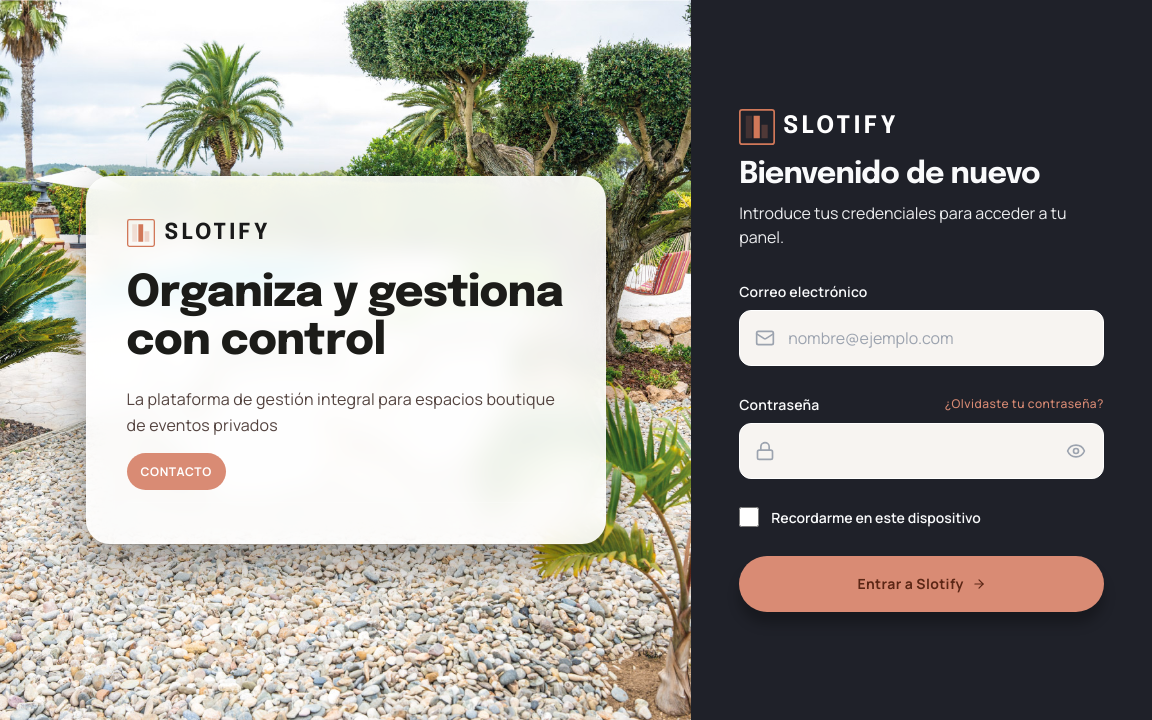
it: LoginPage — errores de la API (REQ 3 / REQ 8) › debe_mostrar_un_mensaje_generico_y_permanecer_en_login_ante_credenciales_invalidas
The image size is (1152, 720).
In the field labelled "Correo electrónico": point(922, 338) [739,310,1104,366], type "info@masialencis.com"
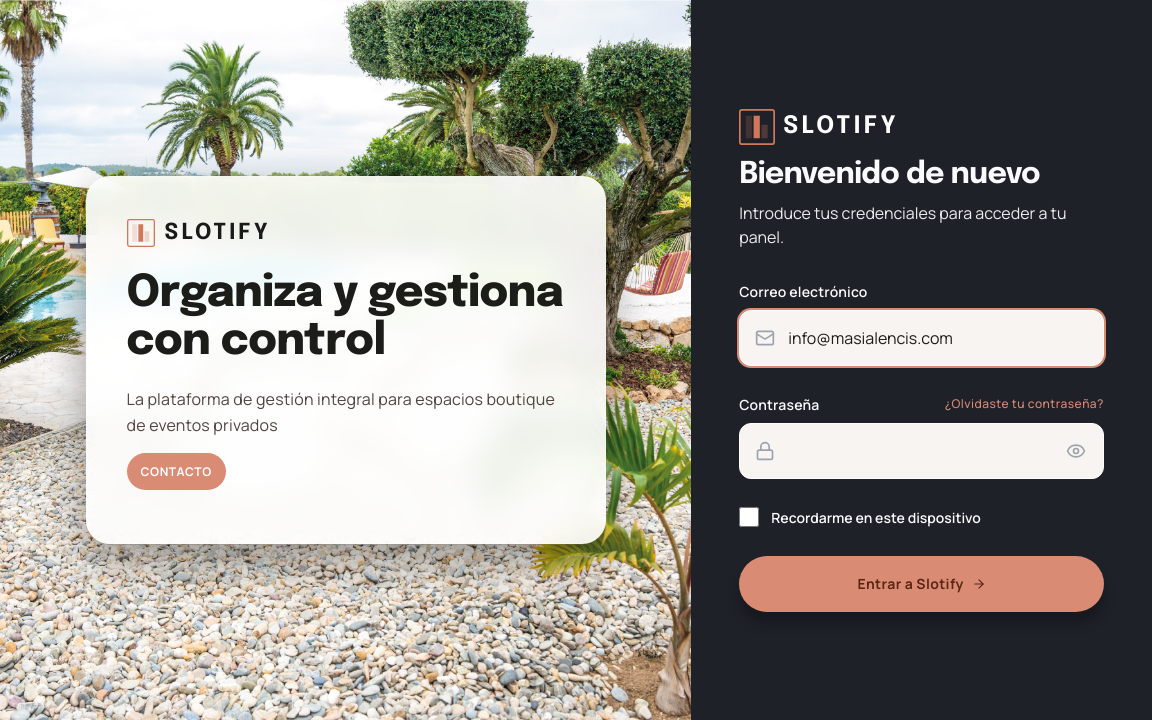
In the password field labelled "Contraseña": point(922, 450) [739,422,1104,478], type "mala"
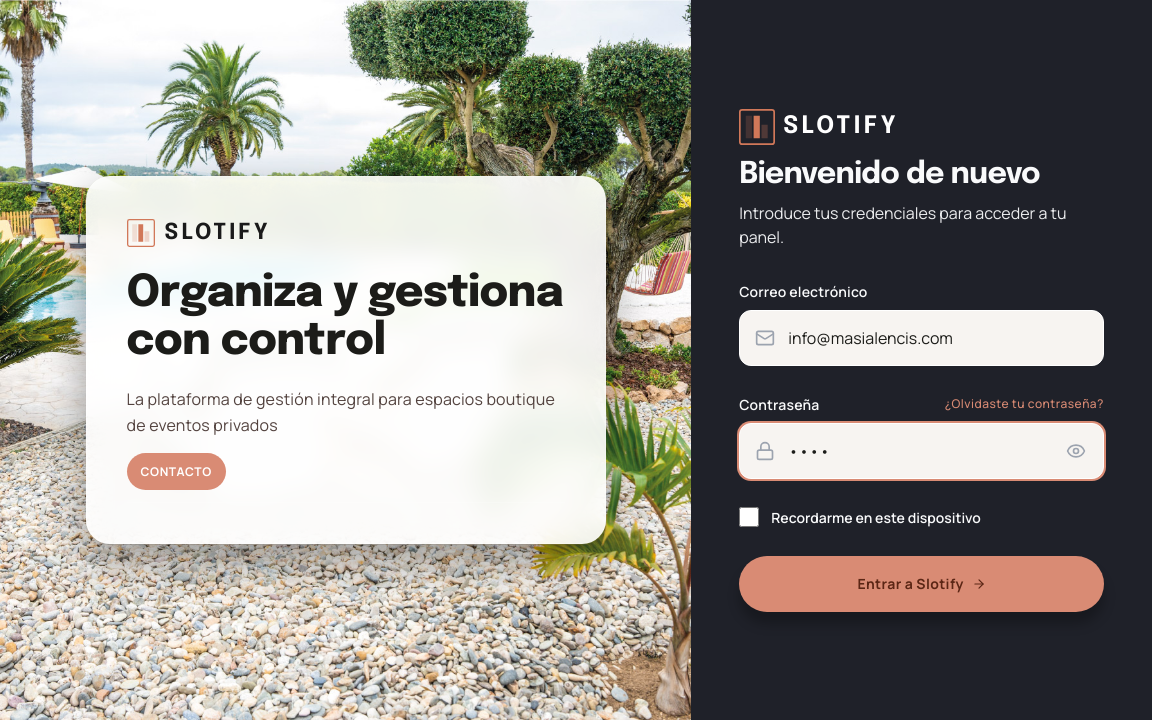
Click the button "Entrar a Slotify": point(922, 584) [739,556,1104,612]
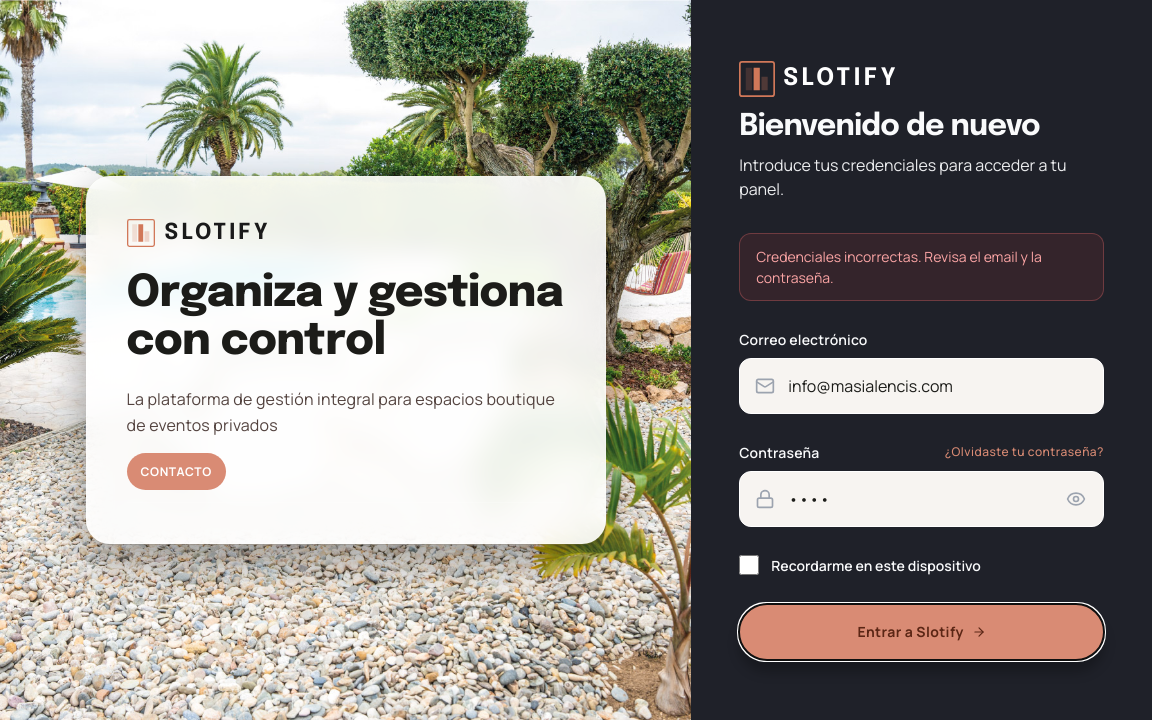
Expected: the message shows "Credenciales", [756,246,1042,286]
